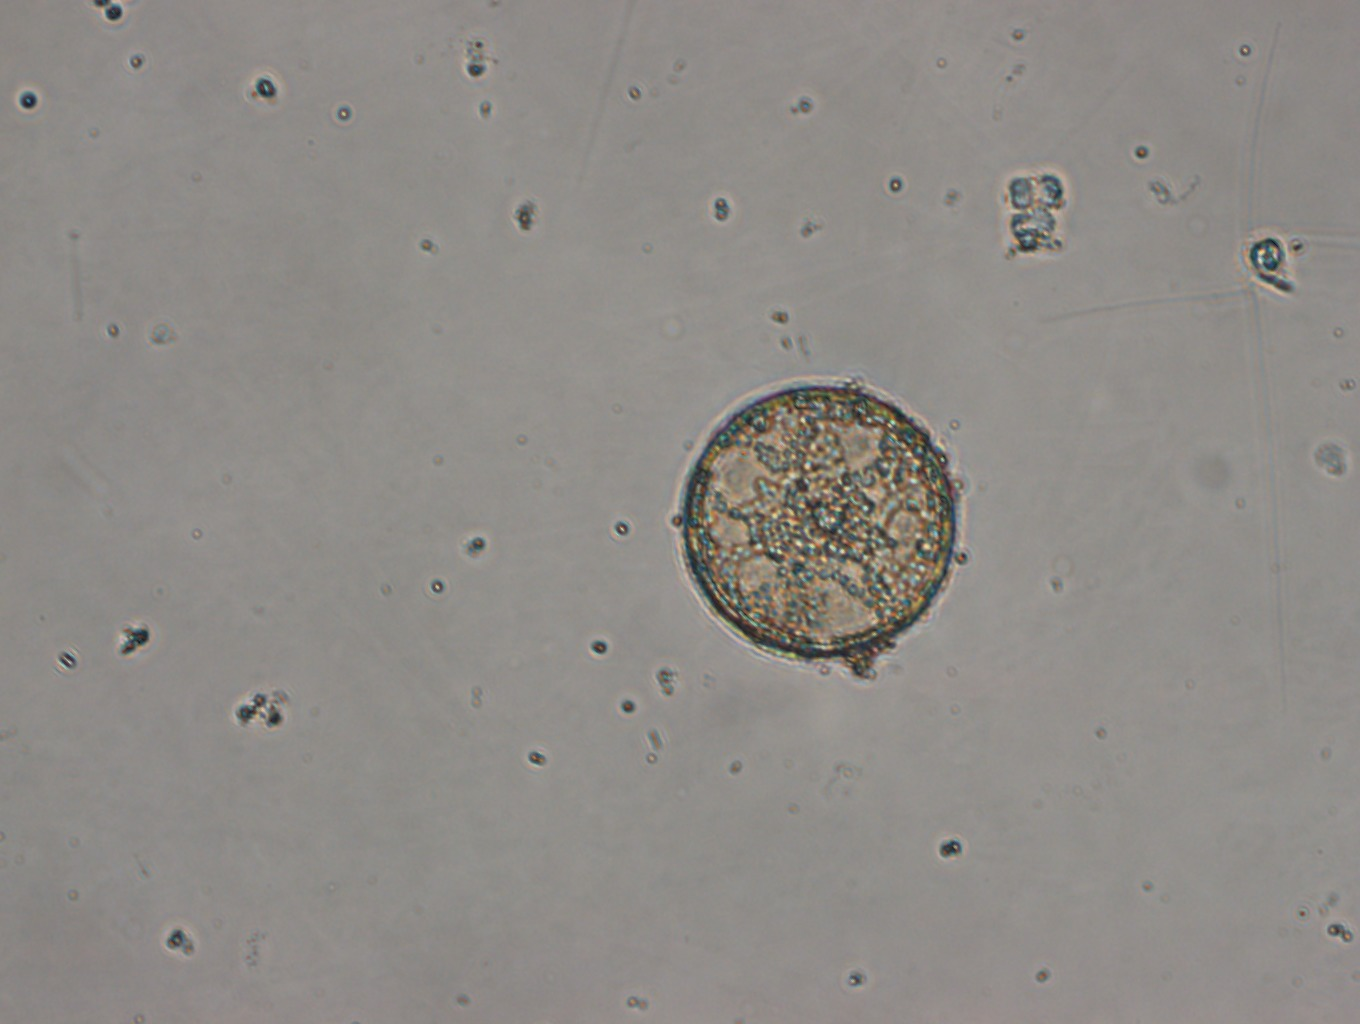chaetoceros: (1027, 26, 1360, 559)
coscinodiscus: (674, 376, 960, 666)
